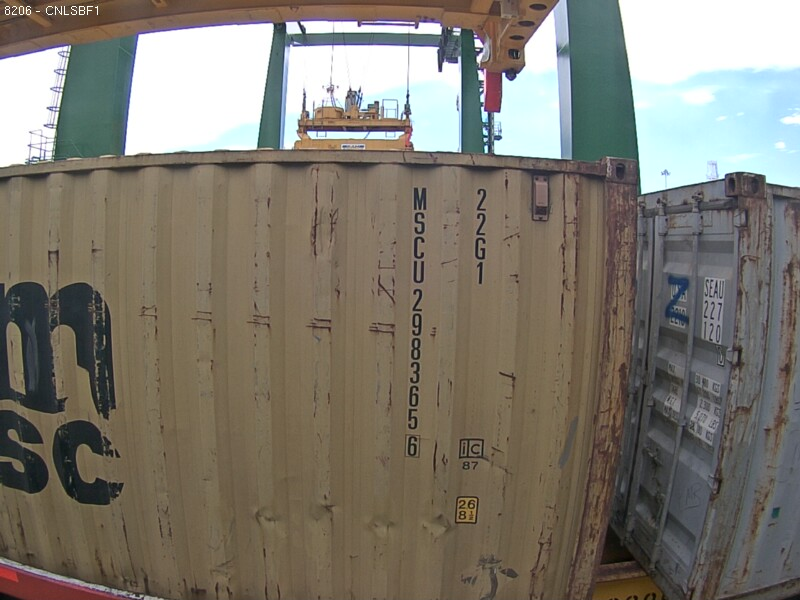container_no_door: (49, 149, 645, 592)
